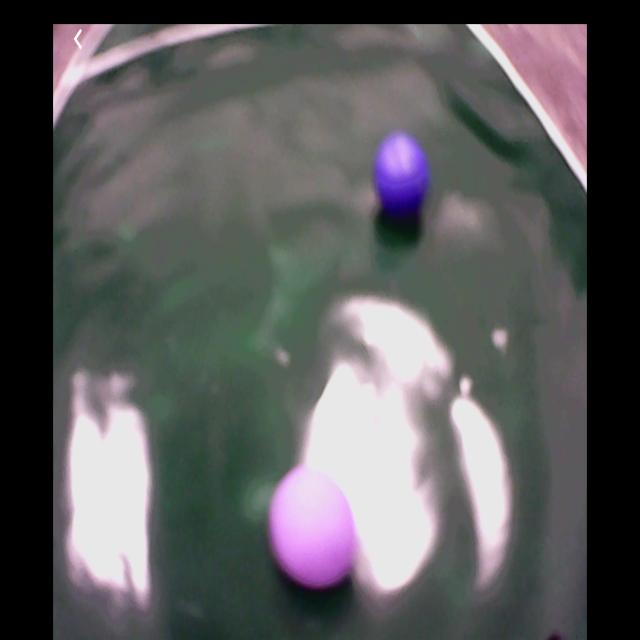ball: (269, 468, 356, 597), (376, 136, 430, 224)
